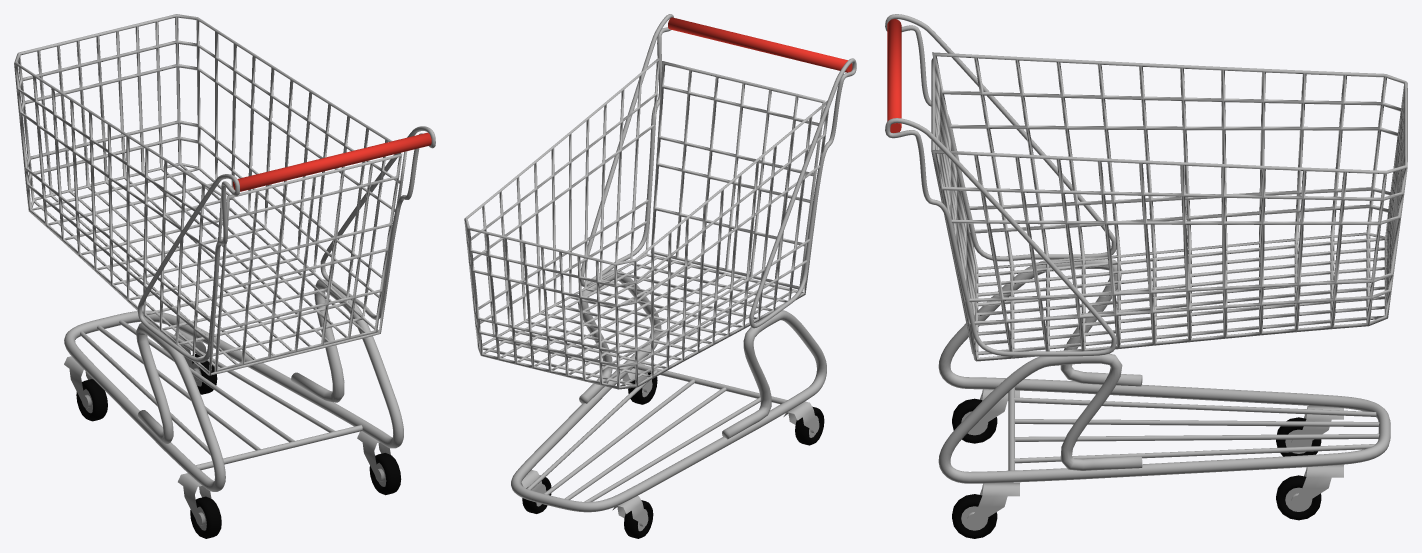
File: cart.fbx
The picture shows the model from 3 angles, left to right: view 1: azimuth 30°, elevation 25°; view 2: azimuth 150°, elevation 25°; view 3: azimuth 270°, elevation 25°; orthographic projection. The views are drawn at different scales.
Parts seen in each view (by area): view 1: shopping cart_LOD0, shopping cart wheel_LOD0.003, shopping cart wheel_LOD0, shopping cart wheel_LOD0.002, shopping cart wheel_LOD0.001; view 2: shopping cart_LOD0, shopping cart wheel_LOD0.003, shopping cart wheel_LOD0.002, shopping cart wheel_LOD0.001, shopping cart wheel_LOD0; view 3: shopping cart_LOD0, shopping cart wheel_LOD0, shopping cart wheel_LOD0.001, shopping cart wheel_LOD0.003, shopping cart wheel_LOD0.002.
Part boxes in pixels (x1=…): shopping cart_LOD0: x1=14, y1=14, x2=435, y2=491; shopping cart wheel_LOD0.003: x1=178, y1=473, x2=221, y2=538; shopping cart wheel_LOD0: x1=357, y1=431, x2=401, y2=495; shopping cart wheel_LOD0.002: x1=64, y1=356, x2=107, y2=421; shopping cart wheel_LOD0.001: x1=174, y1=330, x2=217, y2=394; shopping cart_LOD0: x1=464, y1=14, x2=856, y2=512; shopping cart wheel_LOD0.003: x1=783, y1=401, x2=824, y2=445; shopping cart wheel_LOD0.002: x1=612, y1=496, x2=653, y2=538; shopping cart wheel_LOD0.001: x1=521, y1=470, x2=551, y2=513; shopping cart wheel_LOD0: x1=622, y1=363, x2=657, y2=404; shopping cart_LOD0: x1=885, y1=14, x2=1407, y2=483; shopping cart wheel_LOD0: x1=952, y1=482, x2=1019, y2=538; shopping cart wheel_LOD0.001: x1=1276, y1=464, x2=1343, y2=520; shopping cart wheel_LOD0.003: x1=952, y1=389, x2=1019, y2=443; shopping cart wheel_LOD0.002: x1=1276, y1=406, x2=1343, y2=456.
Size of what is drawn, in the model's own units: 73.55 by 136 by 152.
